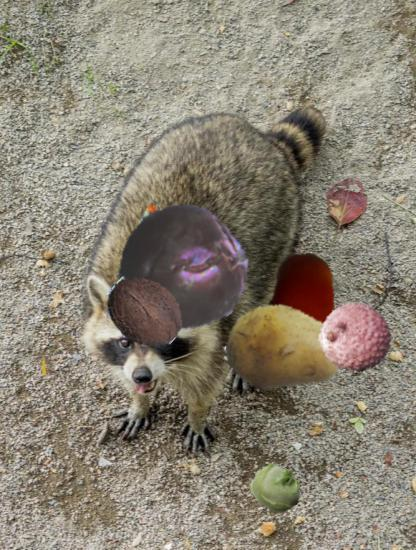Cocos: (102, 274, 184, 356)
Kohlrabi: (252, 462, 304, 514)
Lychee: (318, 300, 393, 375)
Nectarine: (252, 253, 358, 359)
Passion: (113, 200, 249, 336)
Potato: (217, 286, 344, 413)
